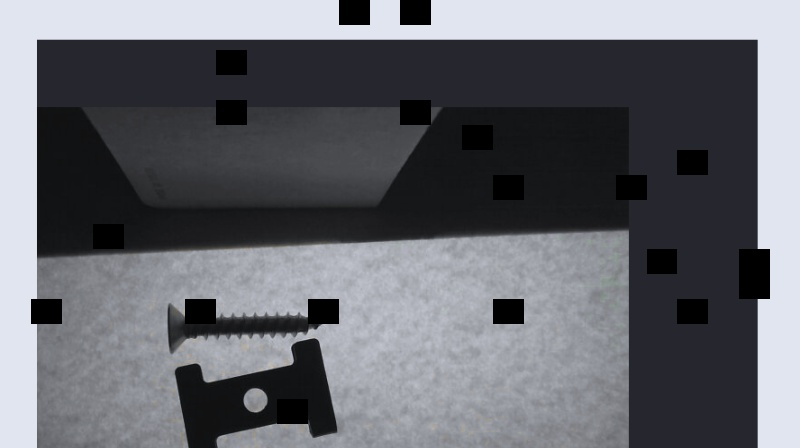O002: (172, 336, 340, 447)
S001: (165, 301, 325, 355)
